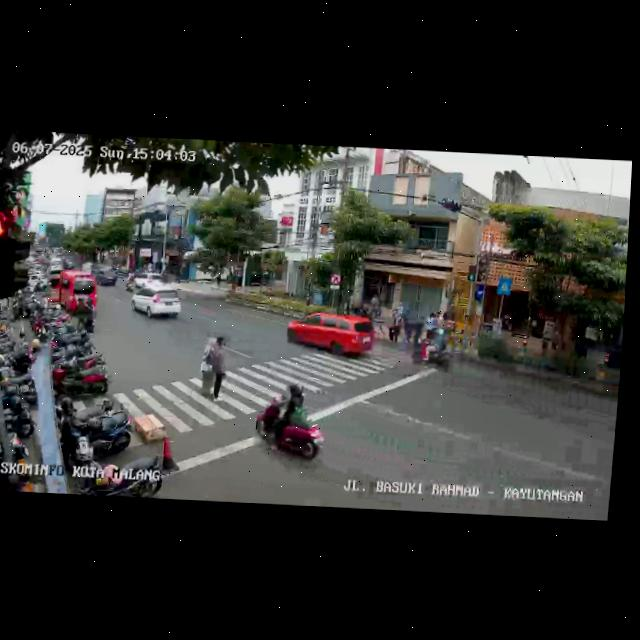car: (283, 307, 375, 363), (44, 267, 100, 323), (128, 283, 183, 322)
motorcycle: (250, 381, 329, 465), (416, 322, 452, 372)
person: (196, 334, 229, 403), (385, 305, 402, 343), (423, 310, 442, 337)
